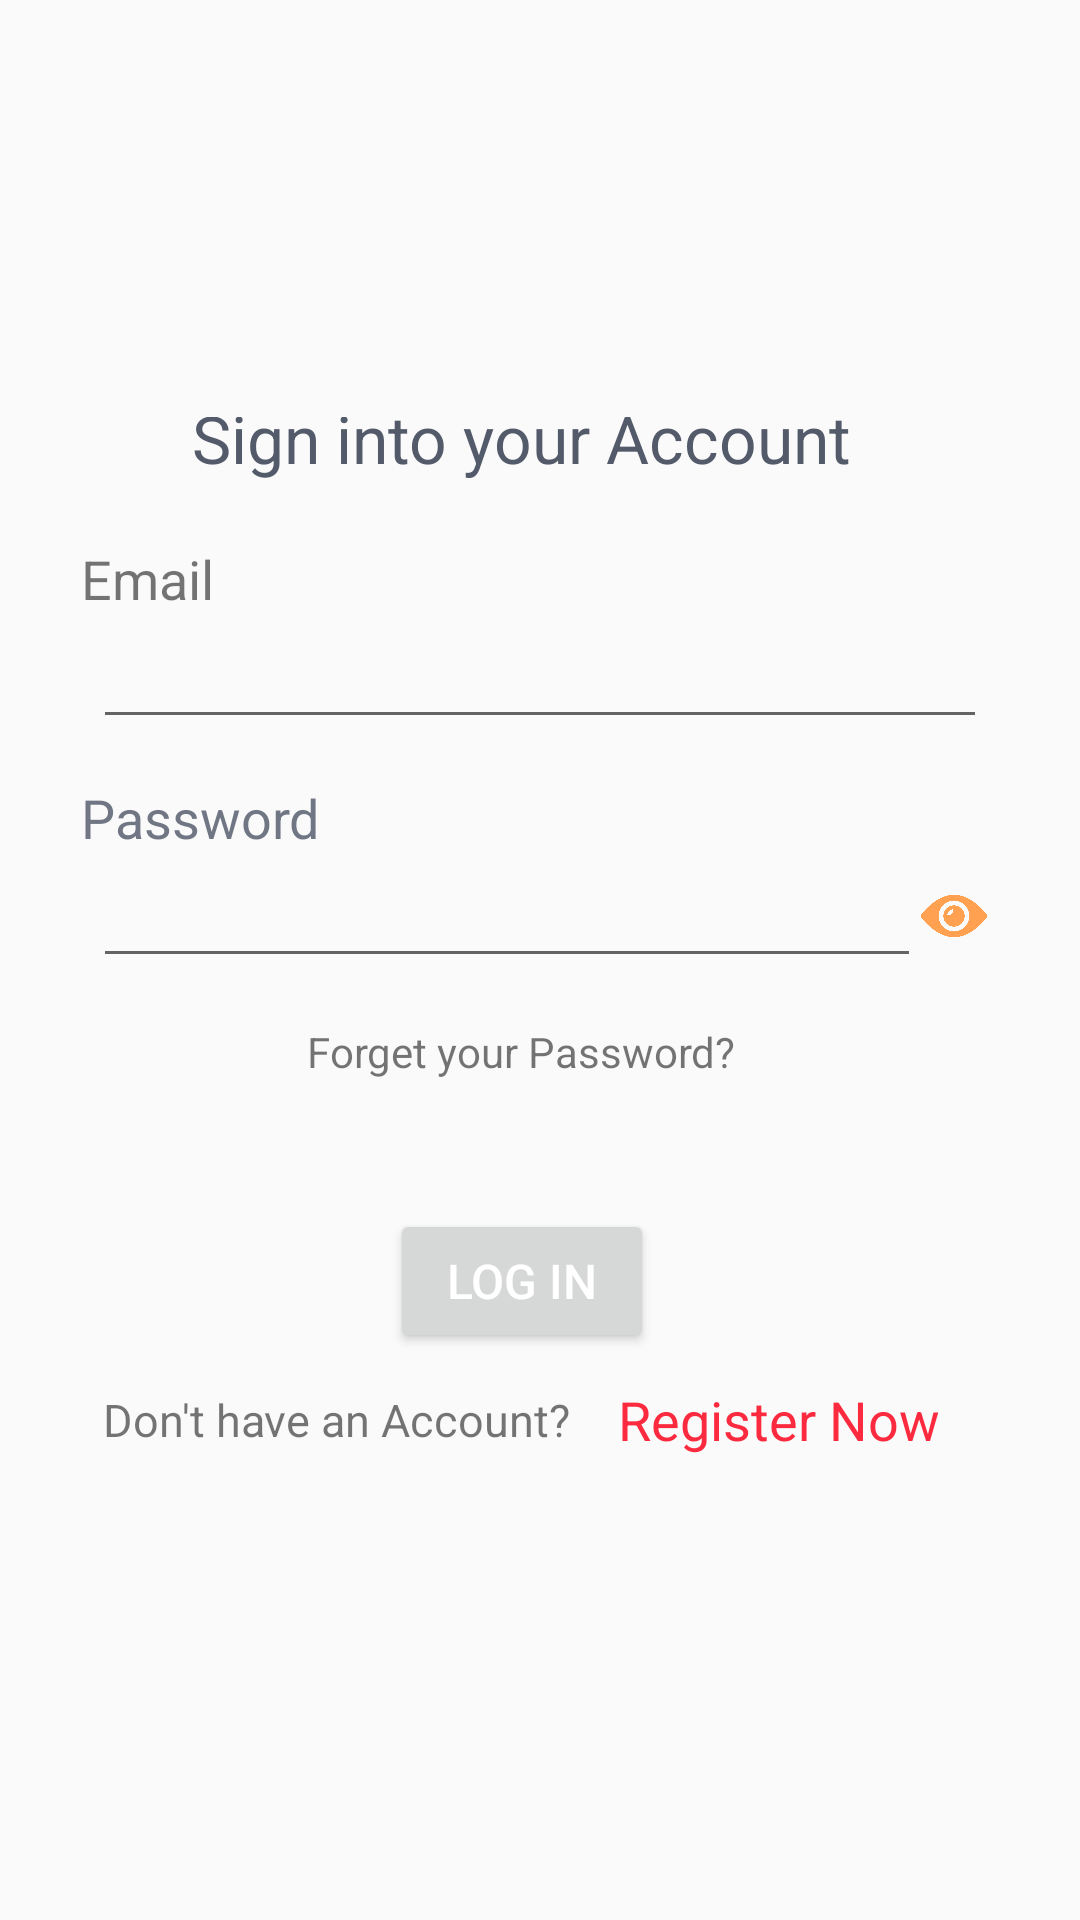

Named icons in this screenshot (1080px×1920px) and their bounding boxes, (x1, y1, x2, y2):
pass: (921, 895, 987, 937)
